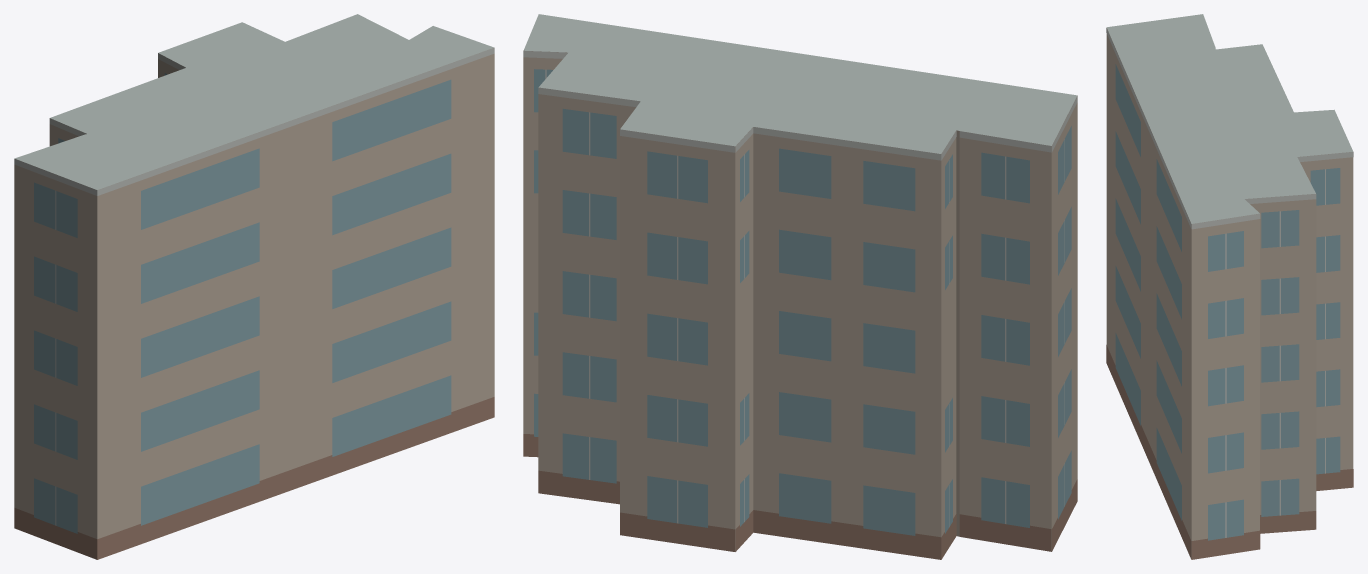
The model's file is survey-upis-32737631.glb.
3 renders of one model, left to right at view 1: azimuth 30°, elevation 25°; view 2: azimuth 150°, elevation 25°; view 3: azimuth 270°, elevation 25°, orthographic. The views are drawn at different scales.
Visible parts, largest first — view 1: survey-upis-32737631.tmp; view 2: survey-upis-32737631.tmp; view 3: survey-upis-32737631.tmp.
Part boxes in pixels (left/top/right/bottom): survey-upis-32737631.tmp: left=14, top=14, right=494, bottom=559; survey-upis-32737631.tmp: left=523, top=14, right=1077, bottom=559; survey-upis-32737631.tmp: left=1106, top=14, right=1353, bottom=559.
Size of the model in its own units: 20.26 by 15.1 by 10.07.
